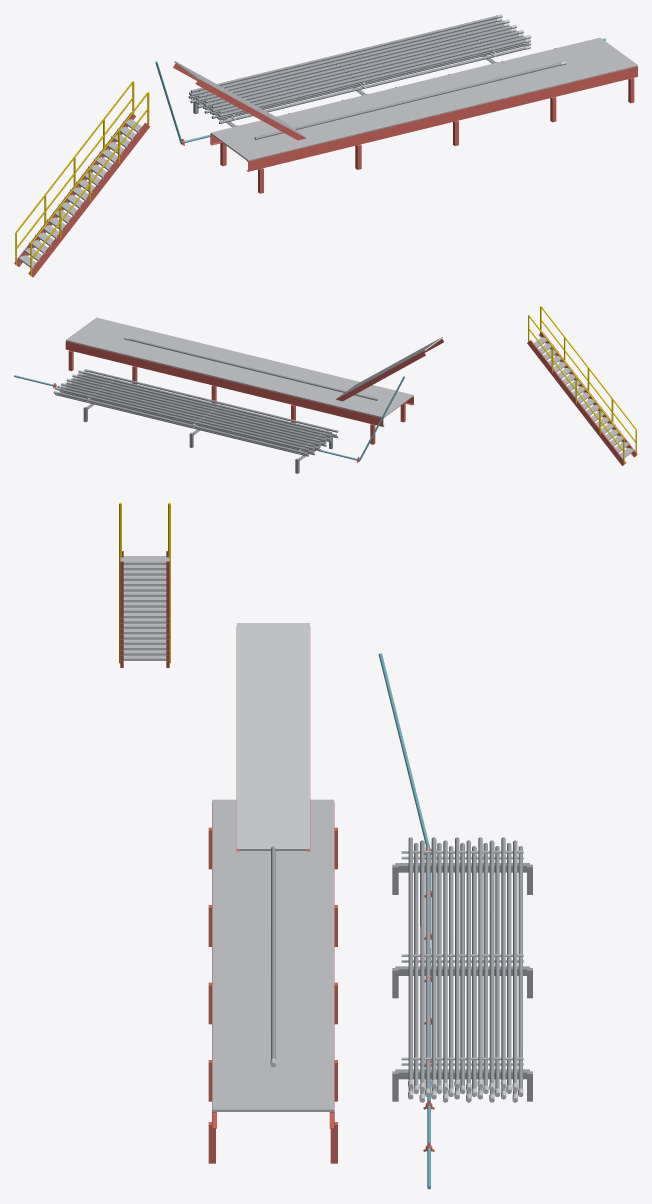
Rendered from sk575_planchada.glb.
3 renders of one model, top to bottom at view 1: azimuth 30°, elevation 25°; view 2: azimuth 150°, elevation 25°; view 3: azimuth 270°, elevation 25°, orthographic. The views are drawn at different scales.
Parts seen in each view (by area): view 1: sk575_planchada_grating, sk575_planchada_acero_oscuro, sk575_planchada_rojo, sk575_planchada_amarillo; view 2: sk575_planchada_grating, sk575_planchada_acero_oscuro, sk575_planchada_rojo, sk575_planchada_amarillo, sk575_planchada_azul; view 3: sk575_planchada_grating, sk575_planchada_acero_oscuro, sk575_planchada_rojo, sk575_planchada_acero, sk575_planchada_azul.
Part boxes in pixels (x1=…): sk575_planchada_grating: x1=17, y1=27, x2=637, y2=269; sk575_planchada_acero_oscuro: x1=188, y1=16, x2=561, y2=139; sk575_planchada_rojo: x1=14, y1=48, x2=637, y2=277; sk575_planchada_amarillo: x1=15, y1=81, x2=149, y2=276; sk575_planchada_grating: x1=66, y1=317, x2=634, y2=459; sk575_planchada_acero_oscuro: x1=58, y1=338, x2=377, y2=473; sk575_planchada_rojo: x1=53, y1=331, x2=637, y2=465; sk575_planchada_amarillo: x1=528, y1=306, x2=636, y2=464; sk575_planchada_azul: x1=14, y1=375, x2=404, y2=460; sk575_planchada_grating: x1=120, y1=556, x2=523, y2=1111; sk575_planchada_acero_oscuro: x1=271, y1=837, x2=532, y2=1101; sk575_planchada_rojo: x1=120, y1=551, x2=434, y2=1163; sk575_planchada_acero: x1=270, y1=1058, x2=523, y2=1102; sk575_planchada_azul: x1=378, y1=653, x2=430, y2=1189.
Size of the model in its own units: 20.65 by 4.64 by 6.77.
